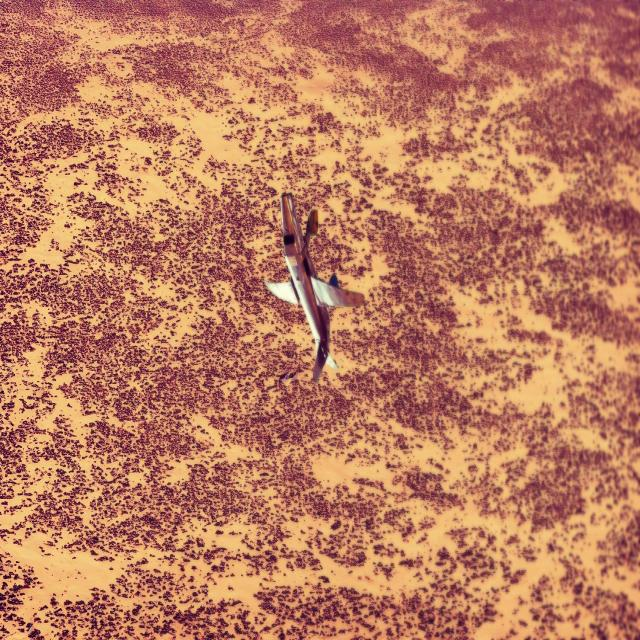airplane: (264, 191, 364, 383)
